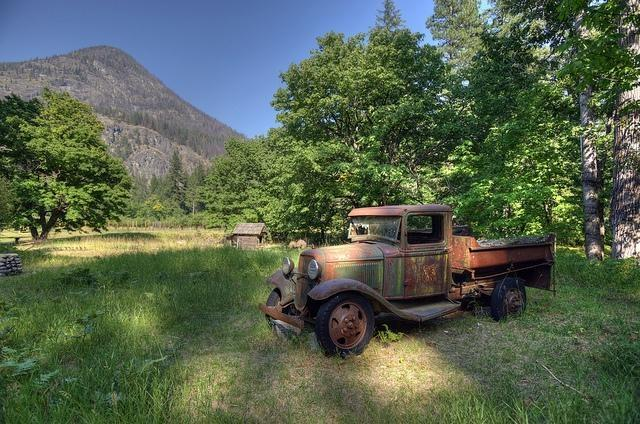truck: (252, 196, 564, 359)
